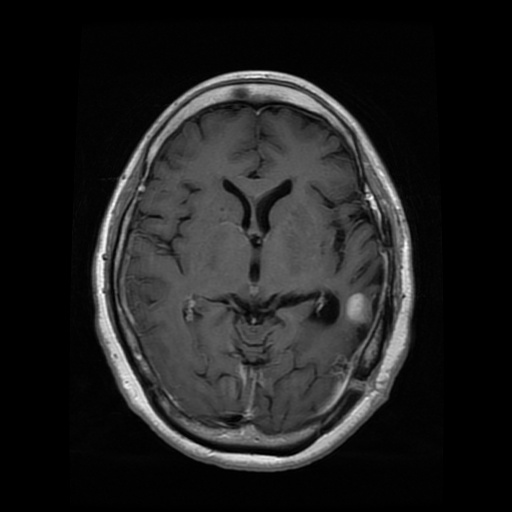glioma: (343, 290, 373, 325)
